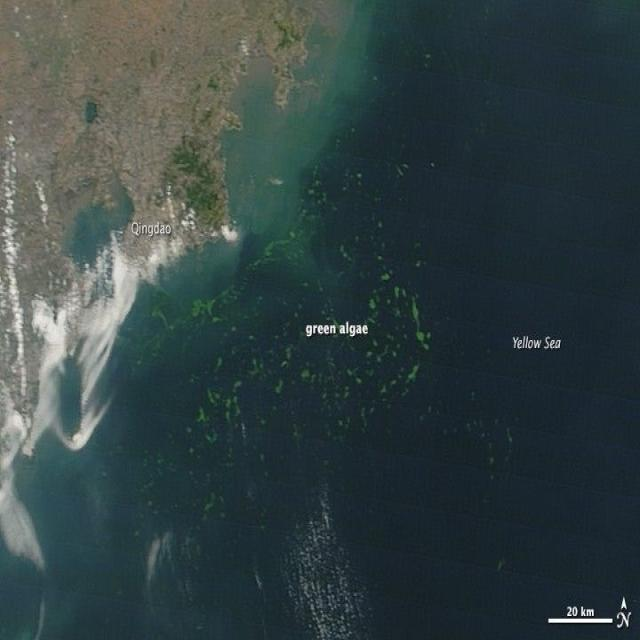algal: (108, 162, 444, 639)
oil spill: (200, 544, 204, 545)
